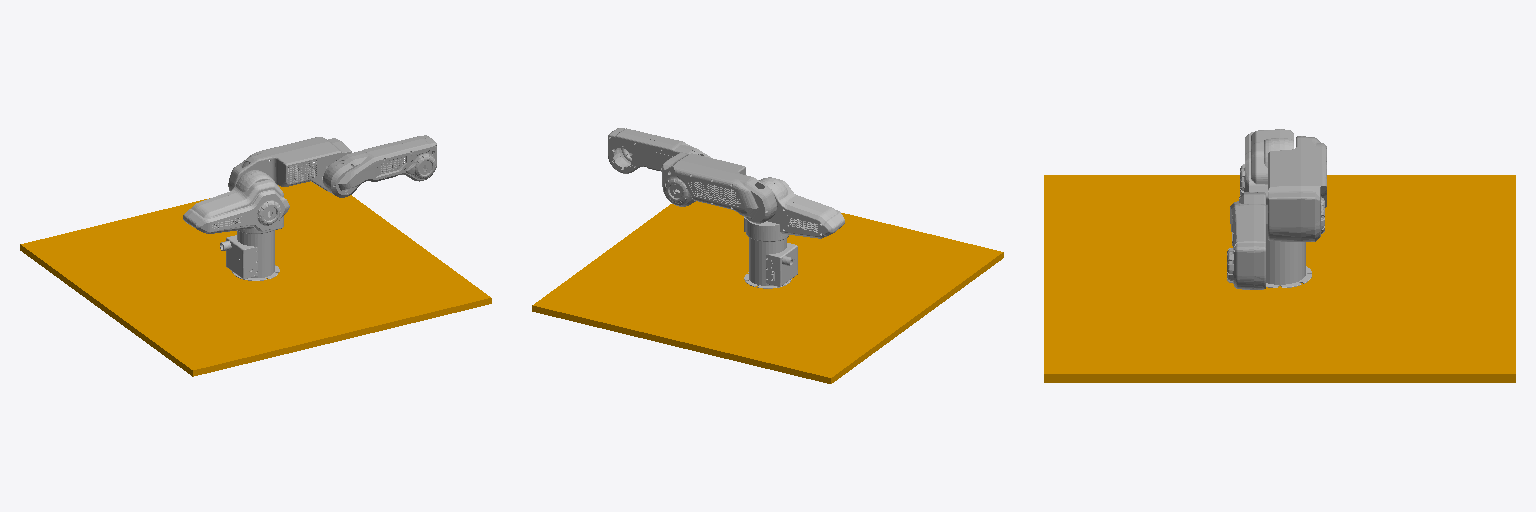
robot.urdf — mrx_t4_a00_new:
<?xml version="1.0"?>
<robot name="mrx_t4_a00_new">

  <link name="base_link">
    <visual>
      <origin xyz=" 0 0 -0.01"  rpy="0 0 0"/>
      <geometry>
        <box size="1 1 0.02" />
      </geometry>
      <material name="Brown" />
    </visual>
    <collision>
      <origin xyz=" 0 0 -0.01"  rpy="0 0 0"/>
      <geometry>
        <box size="1 1 0.02" />
      </geometry>
    </collision>
  </link>

  <joint name="bottom_joint" type="fixed">
    <origin xyz="0 0 0" rpy="0 0 0" />
    <parent link="base_link"/>
    <child link="base"/>
  </joint>

  <link name="base">
    <inertial>
      <origin xyz="-0.000144936182500289 -0.00820760069399896 0.0989499405919245" rpy="0 0 0" />
      <mass value="2.18102317082151" />
      <inertia
        ixx="0.0113453778745561"
        ixy="4.63289918071108E-05"
        ixz="-4.32363621106919E-06"
        iyy="0.0113991095551259"
        iyz="0.000506283101670542"
        izz="0.00568476675971968" />
    </inertial>
    <visual>
      <origin xyz="0 0 0" rpy="0 0 0" />
      <geometry>
        <mesh filename="package://mrx_t4_a00_new/meshes/base.STL" />
      </geometry>
      <material name="">
        <color rgba="0.752941176470588 0.752941176470588 0.752941176470588 1" />
      </material>
    </visual>
    <collision>
      <origin xyz="0 0 0" rpy="0 0 0" />
      <geometry>
        <mesh filename="package://mrx_t4_a00_new/meshes/base.STL" />
      </geometry>
    </collision>
  </link>

  <joint name="base_to_armA" type="revolute">
    <origin xyz="0 0 0.144" rpy="-1.5708 0 0" />
    <parent link="base" />
    <child link="armA" />
    <axis xyz="0 -1 0" />
    <limit effort="300" velocity="1" lower="-2.757620" upper="2.757620" />
  </joint>

  <link name="armA">
    <inertial>
      <origin xyz="-0.058992099688719 -0.0186016047995519 0.0758305002441301" rpy="0 0 0" />
      <mass value="0.303896581928651" />
      <inertia
        ixx="0.001050564841006"
        ixy="-1.55163555383218E-05"
        ixz="-6.26787525019475E-05"
        iyy="0.00302129432156541"
        iyz="3.82579698525422E-05"
        izz="0.00299355685876571" />
    </inertial>
    <visual>
      <origin xyz="0 0 0" rpy="0 0 0" />
      <geometry>
        <mesh filename="package://mrx_t4_a00_new/meshes/armA.STL" />
      </geometry>
      <material name="">
        <color rgba="0.752941176470588 0.752941176470588 0.752941176470588 1" />
      </material>
    </visual>
    <collision>
      <origin xyz="0 0 0" rpy="0 0 0" />
      <geometry>
        <mesh filename="package://mrx_t4_a00_new/meshes/armA.STL" />
      </geometry>
    </collision>
  </link>

  <joint name="armA_to_armB" type="revolute">
    <origin xyz="0 -0.113 0.03375" rpy="0 -1.5708 1.5708" />
    <parent link="armA" />
    <child link="armB" />
    <axis xyz="-1 0 0" />
    <limit effort="300" velocity="1" lower="0" upper="2.05948852" />
  </joint>

  <link
    name="armB">
    <inertial>
      <origin xyz="0.013013 0.020769 0.15495" rpy="0 0 0" />
      <mass value="0.33565" />
      <inertia
        ixx="0.0042212"
        ixy="2.1585E-05"
        ixz="0.00030616"
        iyy="0.0041857"
        iyz="-1.0585E-05"
        izz="0.0011326" />
    </inertial>
    <visual>
      <origin xyz="0 0 0" rpy="0 0 0" />
      <geometry>
        <mesh filename="package://mrx_t4_a00_new/meshes/armB.STL" />
      </geometry>
      <material name="">
        <color rgba="0.69804 0.69804 0.69804 1" />
      </material>
    </visual>
    <collision>
      <origin xyz="0 0 0" rpy="0 0 0" />
      <geometry>
        <mesh filename="package://mrx_t4_a00_new/meshes/armB.STL" />
      </geometry>
    </collision>
  </link>

  <joint name="armB_to_armC" type="revolute">
    <origin xyz="-0.06375 -0.255 0" rpy="0 1.5708 0" />
    <parent link="armB" />
    <child link="armC" />
    <axis xyz="0 0 -1" />
    <limit effort="300" velocity="1" lower="-2.5830873" upper="1.5358897418" />
  </joint>

  <link
    name="armC">
    <inertial>
      <origin xyz="0.12619 -0.01285 0.015821" rpy="0 0 0" />
      <mass value="0.62172" />
      <inertia
        ixx="0.00074736"
        ixy="6.7514E-06"
        ixz="-0.000196"
        iyy="0.0072631"
        iyz="-1.2208E-05"
        izz="0.0066601" />
    </inertial>
    <visual>
      <origin
        xyz="0 0 0"
        rpy="0 0 -1.5708" />
      <geometry>
        <mesh filename="package://mrx_t4_a00_new/meshes/armC.STL" />
      </geometry>
      <material name="">
        <color rgba="0.69804 0.69804 0.69804 1" />
      </material>
    </visual>
    <collision>
      <origin xyz="0 0 0" rpy="0 0 -1.5708" />
      <geometry>
        <mesh filename="package://mrx_t4_a00_new/meshes/armC.STL" />
      </geometry>
    </collision>
  </link>

  <joint name="armC_to_armD" type="continuous">
    <origin xyz="0 -0.25 0.03" rpy="1.5708 0 0" />
    <parent link="armC" />
    <child link="armD" />
    <axis xyz="0 -1 0" />
  </joint>

  <link
    name="armD">
    <inertial>
      <origin xyz="7.533E-05 0.0029979 0.086356" rpy="0 0 0" />
      <mass
        value="0.30492" />
      <inertia
        ixx="0.00080442"
        ixy="2.1974E-06"
        ixz="-3.2773E-07"
        iyy="0.00087792"
        iyz="3.4916E-05"
        izz="0.00023134" />
    </inertial>
    <visual>
      <origin xyz="0 0 0" rpy="0 0 0" />
      <geometry>
        <mesh filename="package://mrx_t4_a00_new/meshes/armD.STL" />
      </geometry>
      <material name="">
        <color rgba="0.62745 0.41961 0.18824 1" />
      </material>
    </visual>
    <collision>
      <origin xyz="0 0 0" rpy="0 0 0" />
      <geometry>
        <mesh filename="package://mrx_t4_a00_new/meshes/armD.STL" />
      </geometry>
    </collision>
  </link>
  <joint name="armD_to_vthand" type="fixed">
    <origin xyz="0 0 0.15" rpy="1.5708 -1.5708 0"/>
    <parent link="armD"/>
    <child link="vt_hand"/>
  </joint>
  <link name="vt_hand"/>
</robot>

--- What the picture shows (computed from the rendered views, not written in the file) ---
Views: 3 orthographic renders of the robot side by side, from view 1: azimuth 30°, elevation 25°; view 2: azimuth 150°, elevation 25°; view 3: azimuth 270°, elevation 25°.
Model mrx_t4_a00_new with 7 links and 6 joints (3 revolute, 1 continuous, 2 fixed), rooted at base_link, posed every joint at zero.
Visible links, largest first — view 1: base_link, armA, armC, armB, base; view 2: base_link, armB, armA, armC, base; view 3: base_link, armB, armC, armA, base.
Boxes of the visible links, x1,y1,x2,y2 form: base_link: [20, 181, 491, 376]; armA: [183, 170, 289, 233]; armC: [323, 135, 436, 197]; armB: [228, 137, 351, 191]; base: [220, 211, 279, 280]; base_link: [532, 201, 1003, 383]; armB: [662, 153, 776, 223]; armA: [744, 177, 844, 241]; armC: [608, 128, 710, 189]; base: [744, 237, 797, 288]; base_link: [1044, 175, 1515, 382]; armB: [1268, 136, 1326, 241]; armC: [1227, 192, 1265, 289]; armA: [1240, 129, 1293, 224]; base: [1266, 225, 1311, 287].
Size in the robot's own frame: 1.06 by 1 by 0.3542 metres.
4 mesh visuals loaded from 5 distinct referenced files (4 binary STL); not drawn: 1 (reference not matched to a file when rendering).
